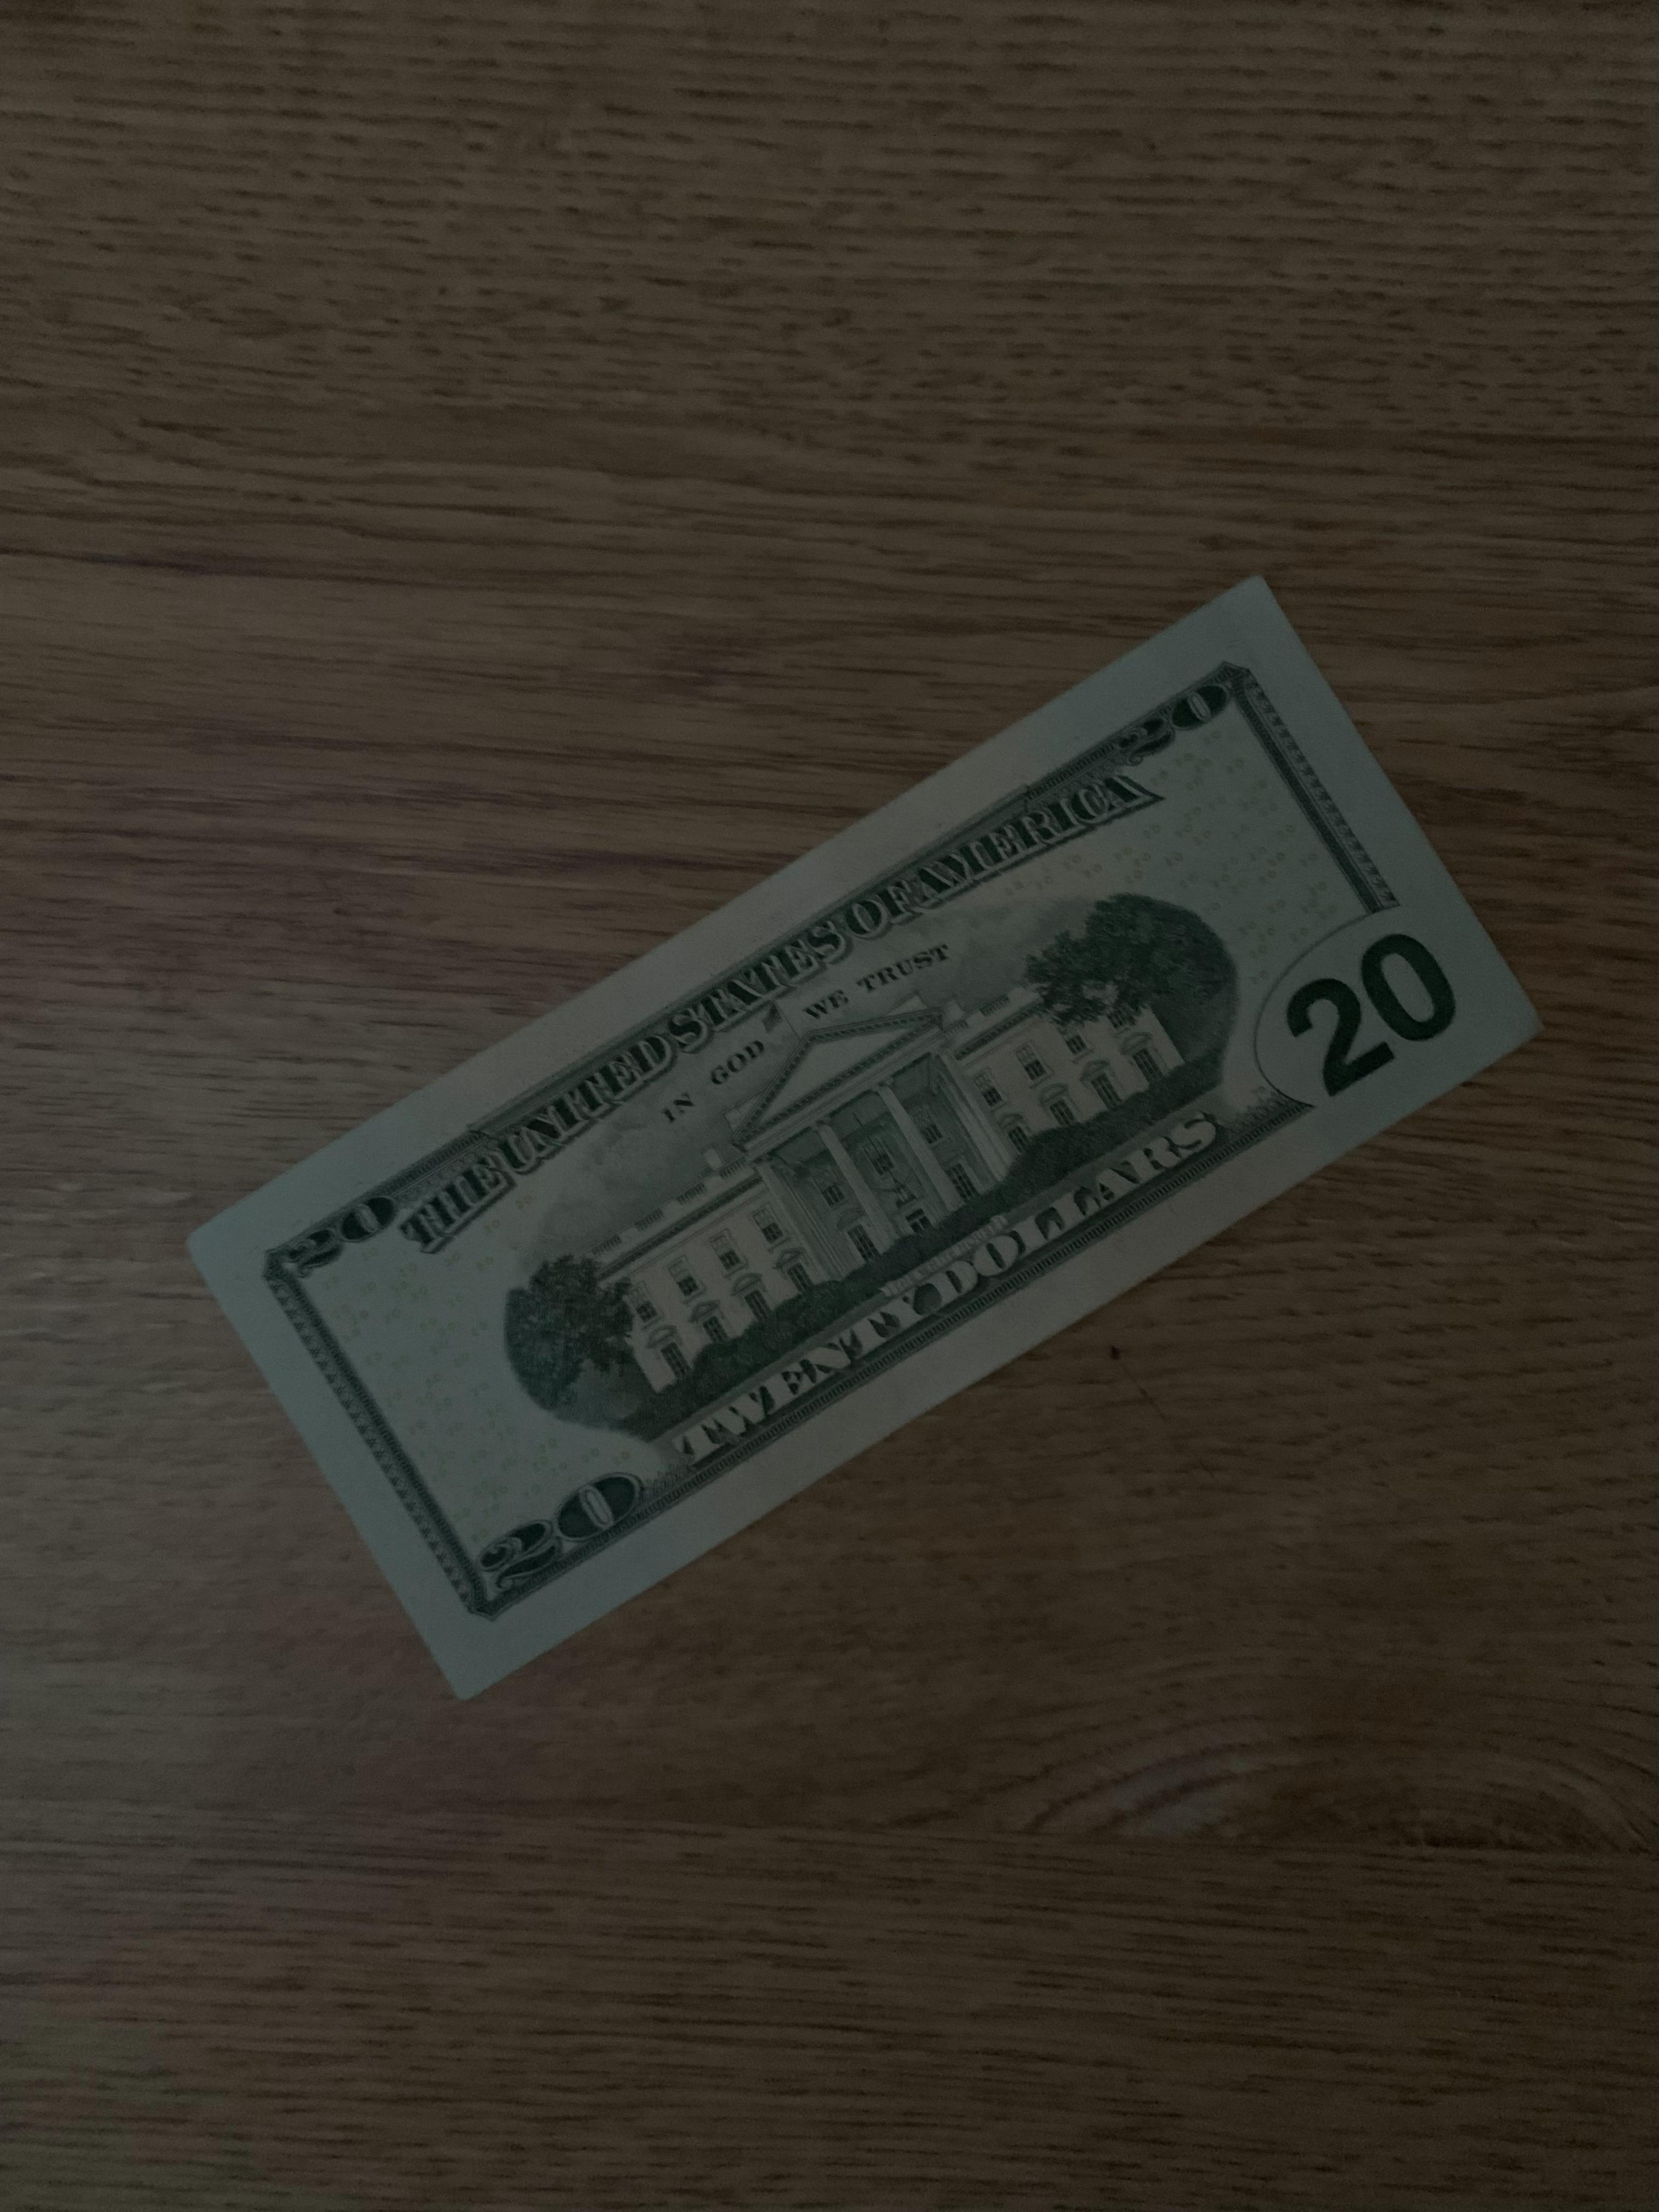TwentyBill: (174, 561, 1539, 1709)
